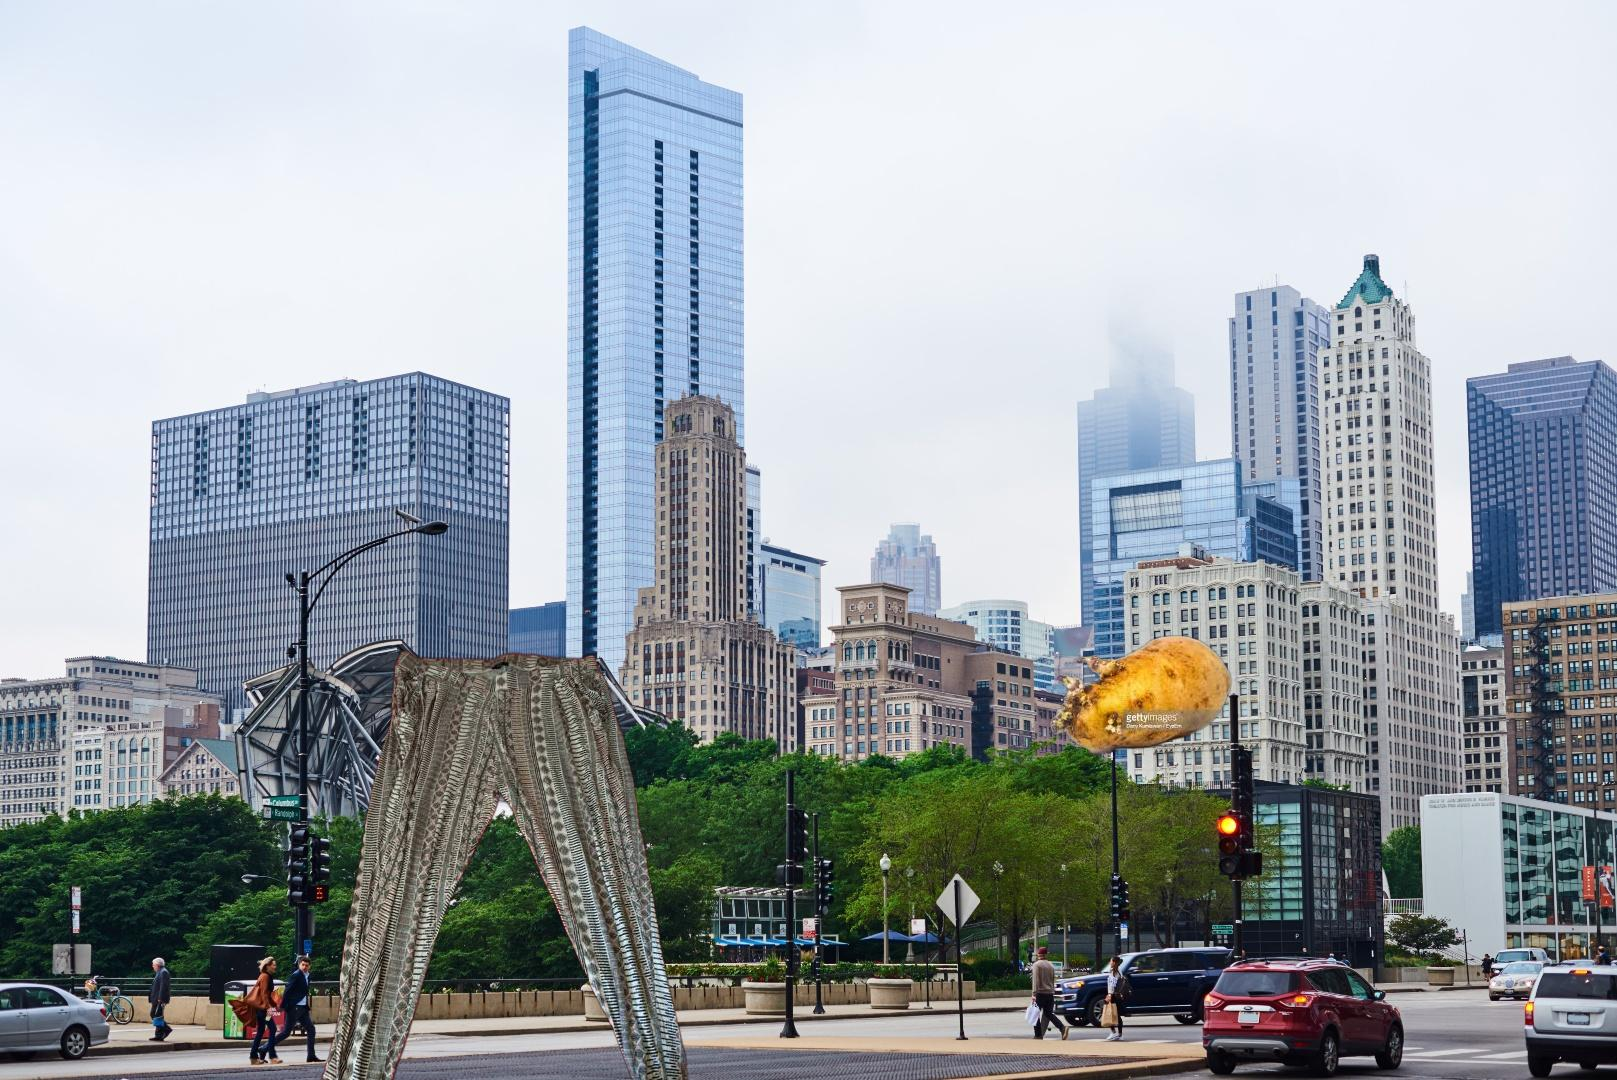biological: (1047, 633, 1234, 758)
clothes: (306, 646, 690, 1080)
